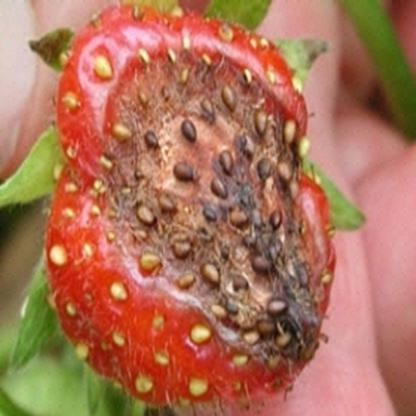Strawberry_Anthracnose_Fruit_Rot: (84, 30, 334, 390)
